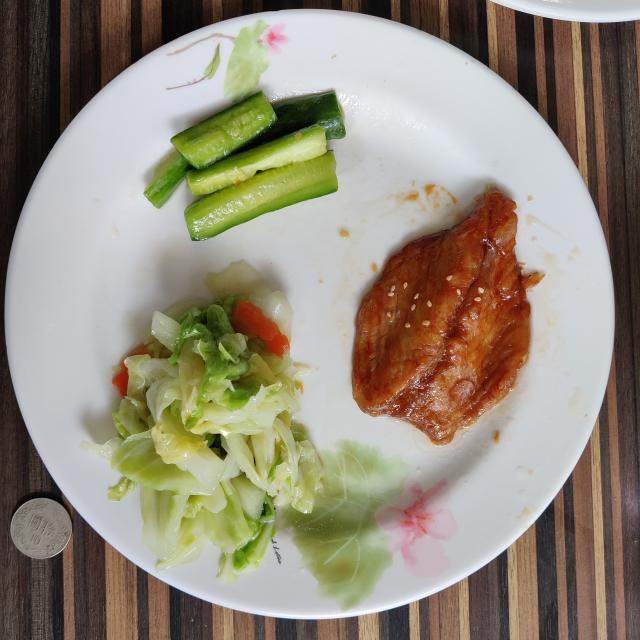Kabayaki sea bream fillet: (352, 189, 544, 445)
cabbage: (80, 261, 322, 581)
coin: (10, 498, 72, 559)
cucumber: (145, 91, 345, 240)
